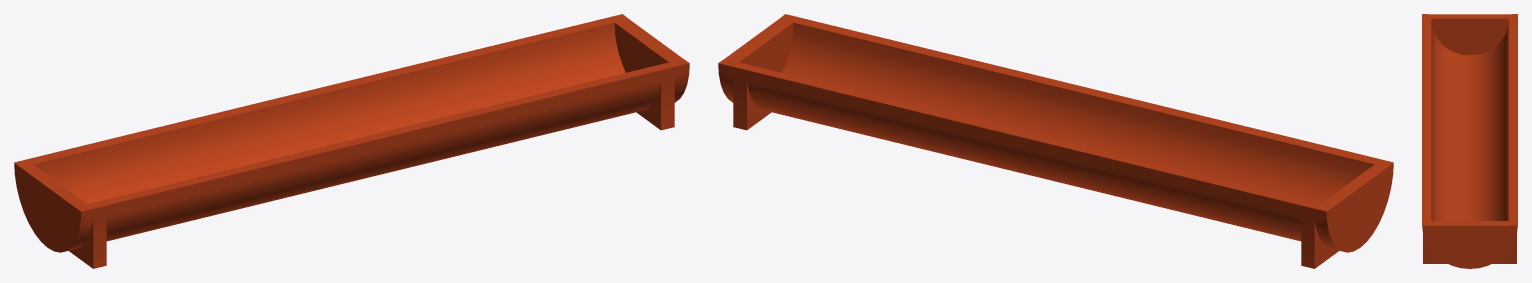
Rendered from Bahugan002.fbx.
3 renders of one model, left to right at view 1: azimuth 30°, elevation 25°; view 2: azimuth 150°, elevation 25°; view 3: azimuth 270°, elevation 25°, orthographic. The views are drawn at different scales.
Visible parts, largest first — view 1: Cylinder; view 2: Cylinder; view 3: Cylinder.
Boxes of the visible parts, bbox=[...] form: Cylinder: bbox=[14, 14, 689, 268]; Cylinder: bbox=[718, 14, 1393, 268]; Cylinder: bbox=[1422, 14, 1517, 268].
Bounding box in the file's own units: 1046 × 100 × 200.
